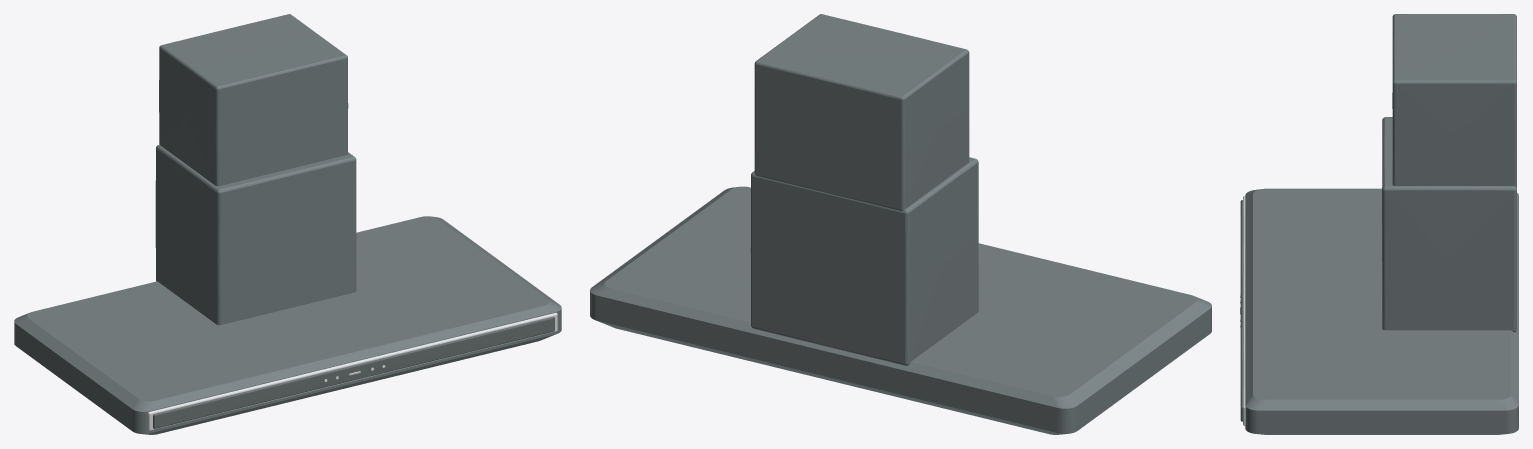
The model's file is range_hood.glb.
3 views of the same model, side by side, from view 1: azimuth 30°, elevation 25°; view 2: azimuth 150°, elevation 25°; view 3: azimuth 270°, elevation 25° (orthographic). The views are drawn at different scales.
Visible parts, largest first — view 1: 薄边集烟罩与内凹烟腔_0, 烟道外罩_1, 内收烟道上罩_2, 黑晶触控面板_4, 缎面前缘_3; view 2: 薄边集烟罩与内凹烟腔_0, 烟道外罩_1, 内收烟道上罩_2; view 3: 薄边集烟罩与内凹烟腔_0, 内收烟道上罩_2, 烟道外罩_1, 缎面前缘_3, 黑晶触控面板_4.
Boxes of the visible parts, x1=… form: 薄边集烟罩与内凹烟腔_0: x1=14, y1=216, x2=561, y2=434; 烟道外罩_1: x1=155, y1=145, x2=356, y2=325; 内收烟道上罩_2: x1=159, y1=14, x2=348, y2=186; 黑晶触控面板_4: x1=153, y1=316, x2=554, y2=428; 缎面前缘_3: x1=147, y1=312, x2=557, y2=430; 薄边集烟罩与内凹烟腔_0: x1=590, y1=186, x2=1211, y2=434; 烟道外罩_1: x1=750, y1=157, x2=978, y2=365; 内收烟道上罩_2: x1=754, y1=14, x2=969, y2=210; 薄边集烟罩与内凹烟腔_0: x1=1245, y1=188, x2=1518, y2=434; 内收烟道上罩_2: x1=1392, y1=14, x2=1516, y2=186; 烟道外罩_1: x1=1382, y1=117, x2=1516, y2=332; 缎面前缘_3: x1=1242, y1=195, x2=1245, y2=425; 黑晶触控面板_4: x1=1240, y1=200, x2=1242, y2=421.
Size of the model in its own units: 0.9 by 0.55 by 0.48.
Materials: 6 (1 with a texture image).
